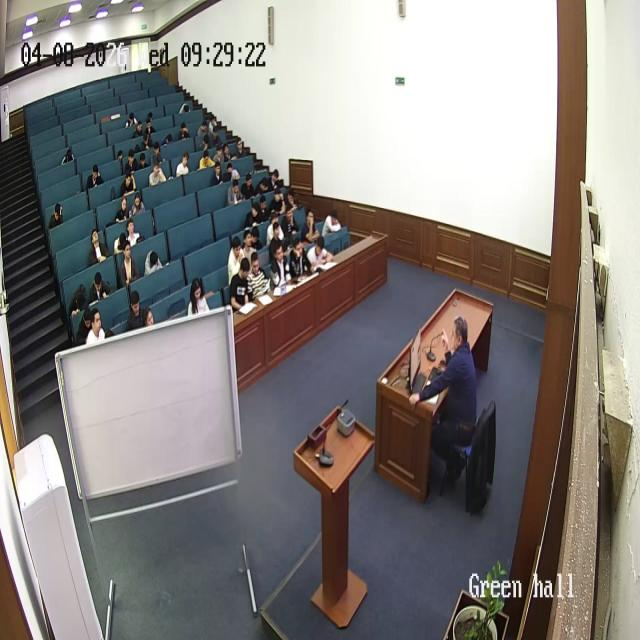person: (408, 316, 478, 492), (230, 257, 254, 312), (288, 236, 314, 284), (246, 251, 270, 301), (118, 239, 142, 289), (270, 239, 293, 289), (228, 233, 249, 284), (73, 301, 95, 346), (307, 233, 333, 271), (187, 278, 211, 318), (87, 229, 109, 266), (89, 271, 111, 306), (86, 308, 106, 346), (126, 292, 144, 334), (300, 209, 320, 246), (66, 286, 90, 316), (282, 208, 300, 245), (240, 229, 258, 264), (266, 212, 284, 246), (123, 218, 141, 250), (322, 209, 342, 236), (144, 248, 163, 276), (116, 191, 132, 224), (49, 201, 66, 230), (149, 160, 167, 187), (227, 177, 244, 205), (130, 190, 146, 219), (242, 203, 260, 228), (240, 172, 256, 200), (120, 171, 136, 198), (87, 164, 103, 190), (267, 162, 281, 190), (124, 150, 140, 173), (199, 148, 215, 170), (176, 152, 190, 177), (226, 161, 240, 186), (142, 306, 157, 328), (272, 184, 283, 214), (284, 181, 296, 206), (232, 131, 245, 153), (132, 121, 145, 143), (210, 162, 222, 185), (256, 195, 268, 218), (61, 146, 75, 165), (179, 116, 190, 140), (176, 97, 193, 111), (126, 110, 139, 128), (150, 145, 162, 163), (210, 126, 219, 149), (140, 134, 152, 150), (198, 120, 210, 135), (221, 138, 230, 158), (143, 112, 151, 134), (201, 136, 211, 152), (207, 113, 216, 130), (163, 130, 173, 145), (258, 172, 266, 189), (147, 108, 155, 125), (140, 153, 148, 169), (216, 144, 224, 159)
